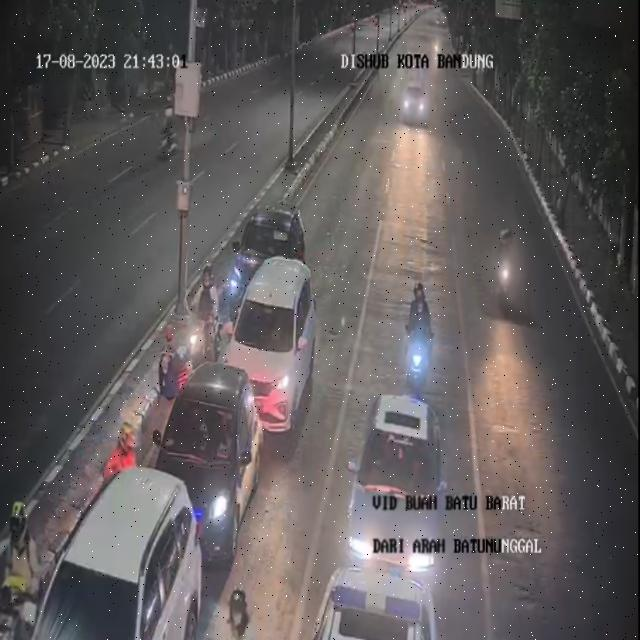cars: (31, 469, 204, 640), (352, 385, 454, 615), (154, 362, 262, 569), (224, 258, 318, 435), (303, 559, 441, 638), (237, 202, 307, 290), (400, 75, 433, 134)
motorcycle: (0, 498, 44, 640), (402, 276, 442, 398), (211, 578, 262, 640), (494, 225, 524, 324), (104, 416, 141, 484)
